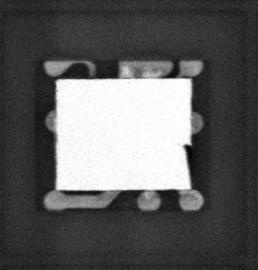DIE_BROKEN: (182, 142, 193, 187)
